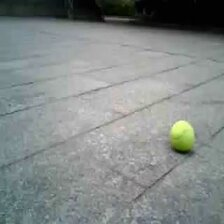tennis: (170, 120, 194, 149)
